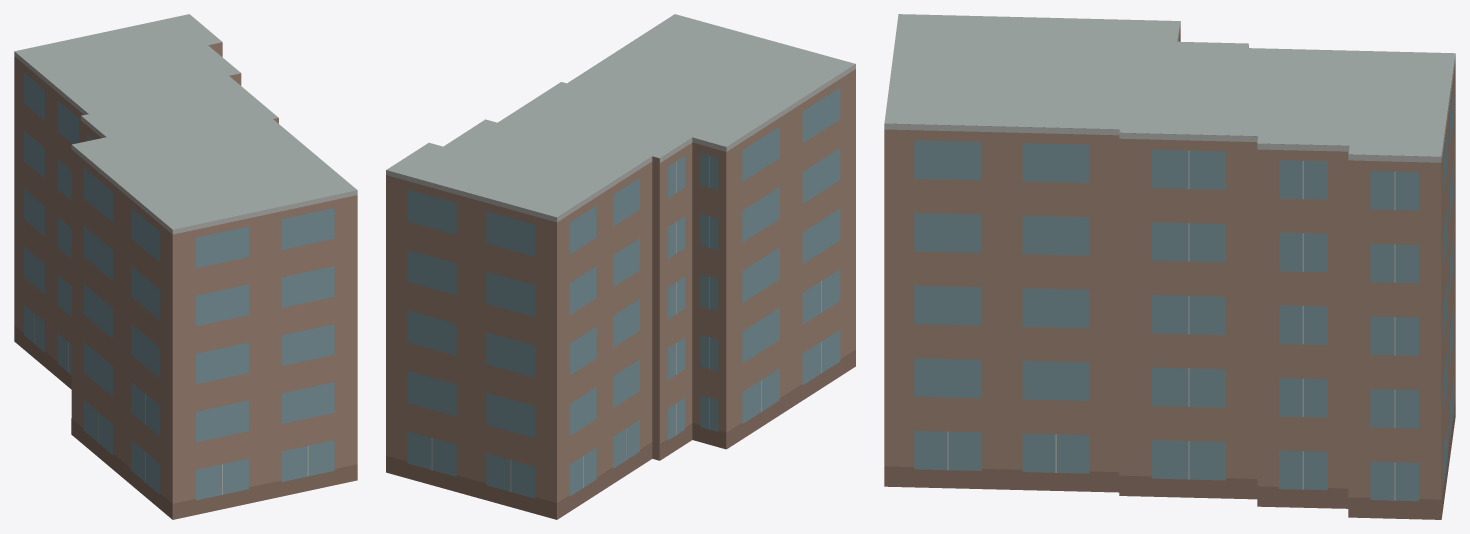
The model's file is survey-upis-32670846.glb.
The picture shows the model from 3 angles, left to right: view 1: azimuth 30°, elevation 25°; view 2: azimuth 150°, elevation 25°; view 3: azimuth 270°, elevation 25°; orthographic projection. The views are drawn at different scales.
Parts seen in each view (by area): view 1: survey-upis-32670846.tmp; view 2: survey-upis-32670846.tmp; view 3: survey-upis-32670846.tmp.
Boxes of the visible parts, x1,y1,x2,y2 form: survey-upis-32670846.tmp: (14, 14, 357, 519); survey-upis-32670846.tmp: (386, 14, 855, 519); survey-upis-32670846.tmp: (884, 14, 1455, 519).
Size of the model in its own units: 12.4 by 14.7 by 20.97.
